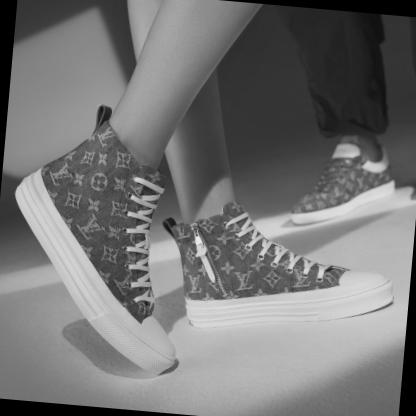ankle: (102, 159, 109, 166), (207, 247, 210, 249)
heel: (44, 167, 48, 172), (188, 296, 191, 298)
left_foot: (175, 217, 401, 346)
pinky: (148, 337, 153, 342), (370, 273, 371, 274)
right_foot: (3, 130, 195, 379)
toe: (371, 285, 374, 289), (169, 340, 171, 342)
